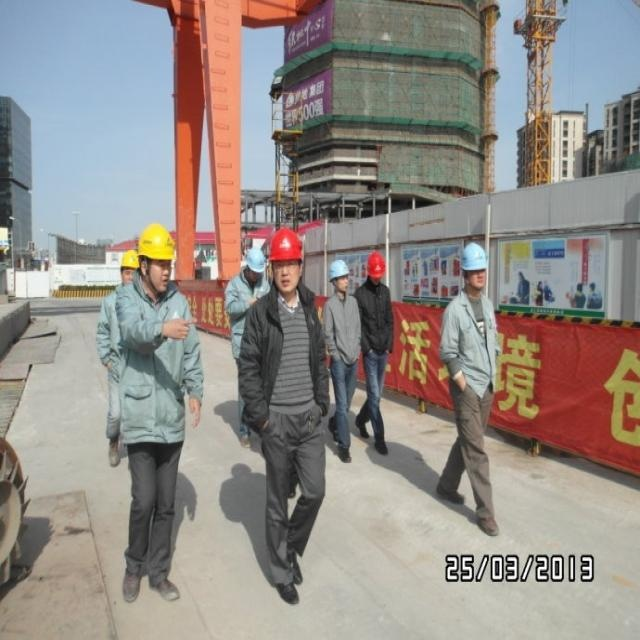Con_Casco: (138, 223, 178, 292), (270, 225, 304, 289), (459, 243, 489, 291)
